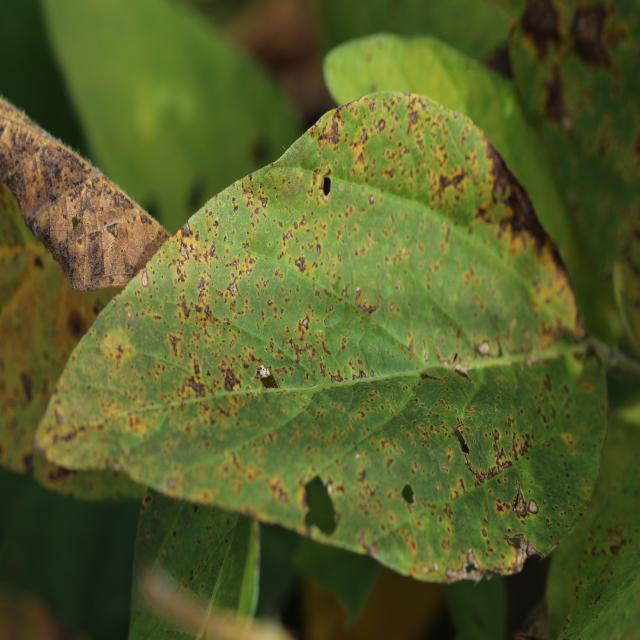Bacterial_Blight: (565, 522, 634, 626), (166, 502, 238, 595), (490, 165, 550, 241), (569, 3, 612, 66), (28, 145, 78, 198), (264, 165, 313, 208), (521, 0, 563, 49), (179, 351, 213, 399), (446, 548, 489, 584), (543, 68, 569, 125), (99, 329, 132, 367), (83, 233, 106, 285), (435, 168, 467, 198), (9, 126, 37, 160), (510, 427, 535, 463), (319, 114, 343, 147), (252, 363, 281, 390), (472, 336, 503, 360), (67, 309, 87, 341), (266, 477, 289, 503), (354, 286, 376, 313), (251, 139, 272, 167), (222, 365, 242, 392), (19, 371, 34, 404), (177, 293, 192, 322), (357, 530, 374, 554), (352, 142, 368, 167), (454, 427, 470, 452), (608, 535, 626, 557), (168, 332, 183, 358), (452, 366, 473, 383), (418, 372, 447, 384), (401, 483, 416, 505), (494, 498, 512, 515), (54, 404, 67, 426), (22, 453, 35, 473), (326, 479, 340, 497), (506, 535, 524, 549), (416, 424, 430, 441), (294, 255, 306, 273), (527, 498, 539, 515), (99, 190, 109, 210), (330, 371, 345, 384), (542, 373, 552, 392), (140, 267, 149, 288), (442, 503, 453, 520), (321, 339, 332, 356), (180, 242, 190, 260), (407, 111, 418, 127), (282, 230, 293, 245), (299, 315, 310, 330), (107, 222, 118, 237), (182, 222, 192, 238), (376, 118, 386, 133), (340, 284, 350, 299), (166, 477, 177, 490), (450, 351, 460, 365), (197, 278, 206, 293), (34, 256, 44, 269), (229, 282, 238, 296), (259, 196, 268, 209), (143, 494, 152, 506), (388, 300, 397, 312), (209, 243, 216, 258), (231, 200, 239, 213), (481, 527, 488, 539), (141, 214, 149, 224), (368, 194, 375, 205), (204, 305, 211, 315), (232, 258, 239, 267), (193, 503, 199, 513), (424, 351, 429, 362), (267, 299, 273, 308), (126, 310, 132, 319), (214, 220, 219, 228)
Soybean: (35, 92, 640, 583)
